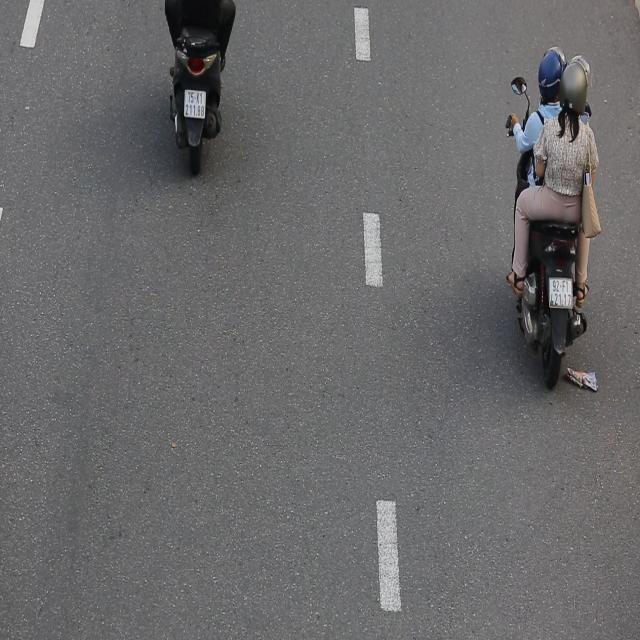motorbike: (504, 33, 606, 398)
